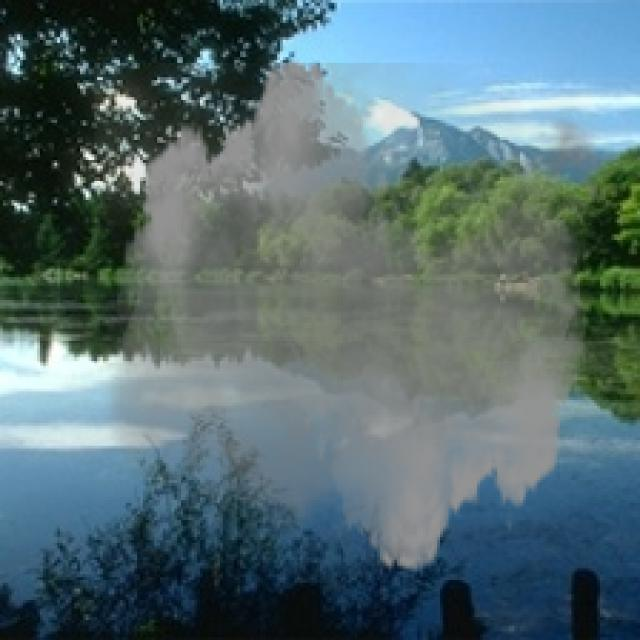smoke: (94, 43, 623, 588)
